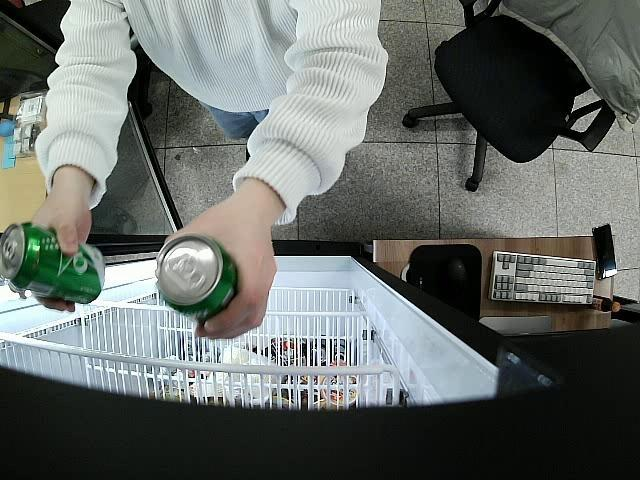12_chilsungCider: (0, 222, 107, 304), (154, 234, 239, 322)
